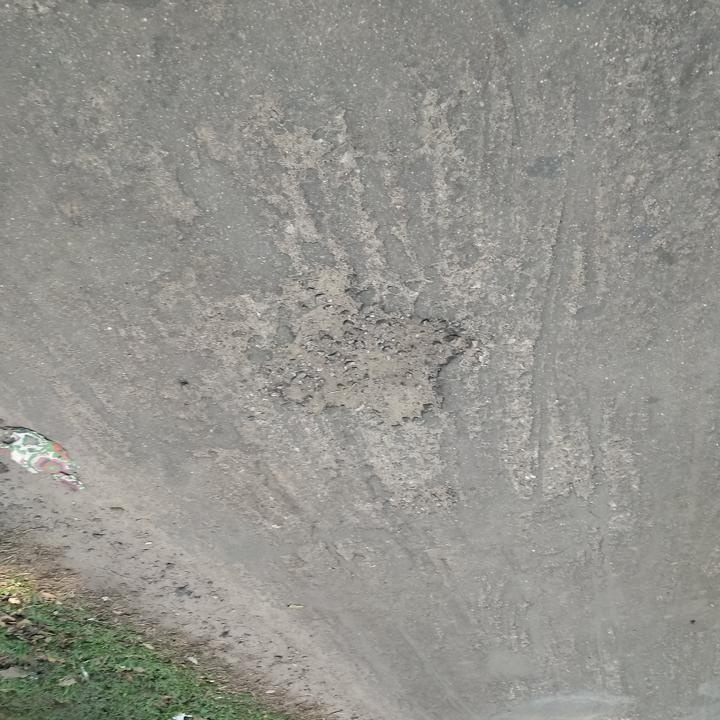pothole: (260, 301, 468, 431)
